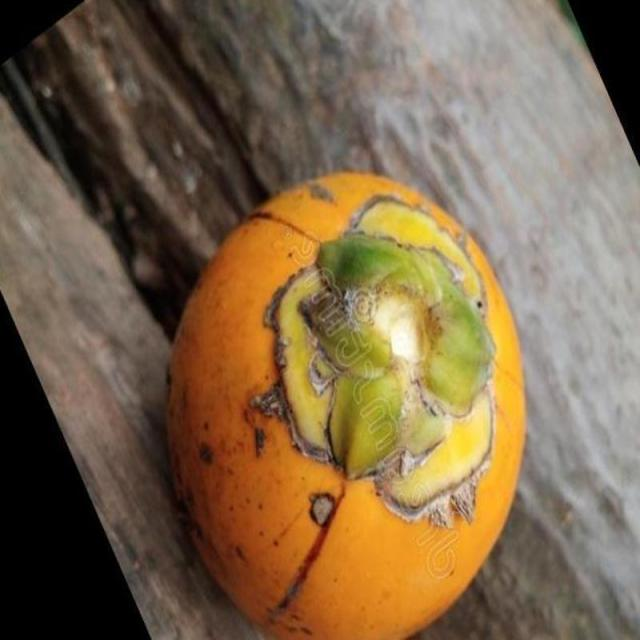good: (165, 175, 527, 639)
